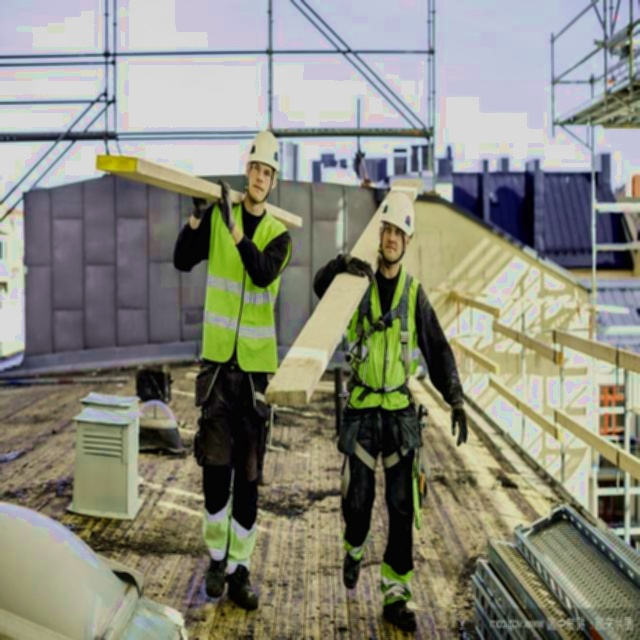Con_Casco: (242, 130, 281, 206), (377, 190, 417, 264)
Con_Chaleco: (202, 207, 286, 365), (345, 272, 424, 409)
